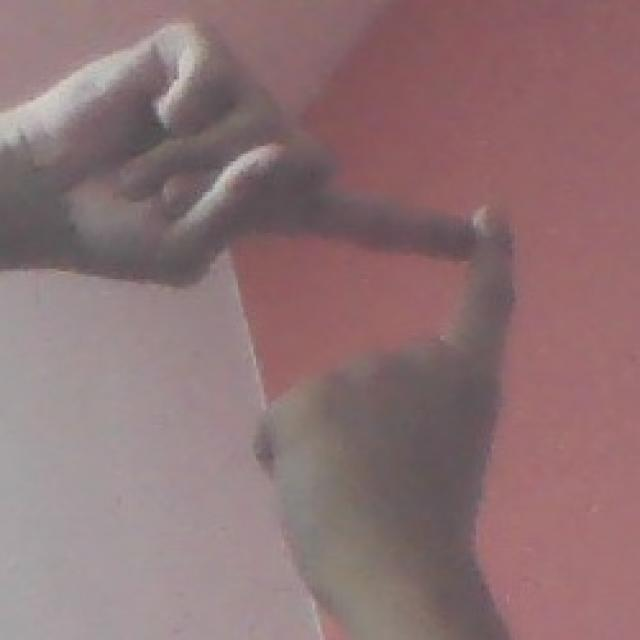Alphabet-E: (37, 13, 515, 593)
